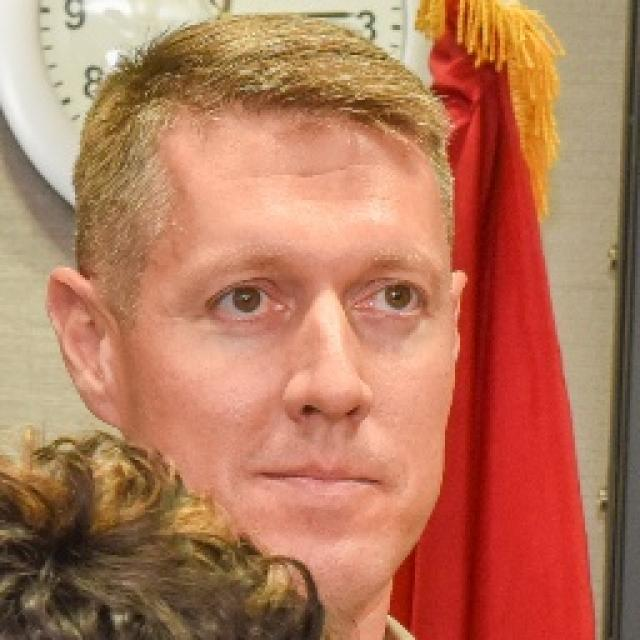earlobe: (82, 378, 122, 426)
eye: (212, 286, 282, 318), (357, 283, 423, 316)
nose: (287, 407, 373, 451)
wholeear: (46, 266, 122, 426), (451, 272, 468, 368)
